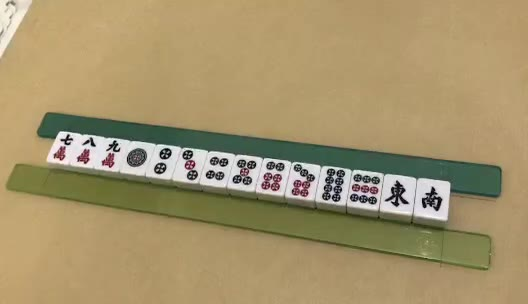1p: (127, 148, 147, 168)
1z: (385, 181, 408, 207)
2p: (154, 148, 171, 174)
2z: (421, 186, 442, 213)
3p: (184, 151, 199, 180)
4p: (206, 156, 228, 181)
5p: (233, 158, 256, 185)
6p: (261, 161, 284, 191)
7m: (53, 133, 74, 161)
7p: (290, 164, 315, 199)
8m: (76, 136, 98, 165)
8p: (320, 168, 346, 201)
9m: (100, 139, 120, 169)
9p: (351, 173, 378, 205)
